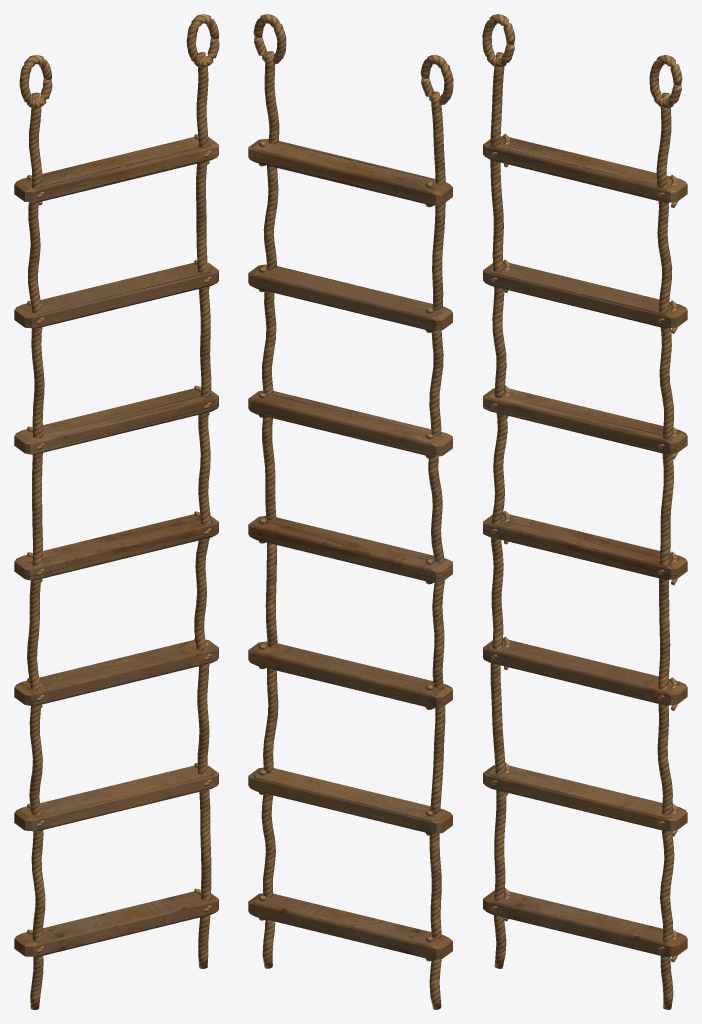
The model's file is rope_ladder.glb.
The picture shows the model from 3 angles, left to right: view 1: azimuth 30°, elevation 25°; view 2: azimuth 150°, elevation 25°; view 3: azimuth 330°, elevation 25°; orthographic projection.
Visible parts, largest first — view 1: rope_ladder; view 2: rope_ladder; view 3: rope_ladder.
Part boxes in pixels (x1,y1,x2,y2): rope_ladder: (14, 14, 219, 1009); rope_ladder: (248, 14, 453, 1009); rope_ladder: (482, 14, 687, 1009).
Bounding box in the file's own units: 0.4393 × 2.02 × 0.0615.
Materials: 3 (3 with a texture image).
